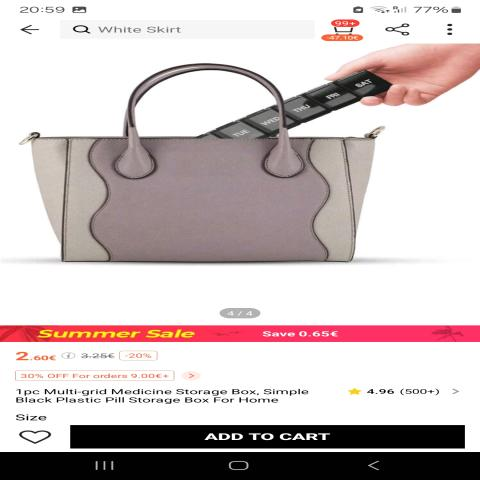PillBox: (185, 66, 430, 136)
